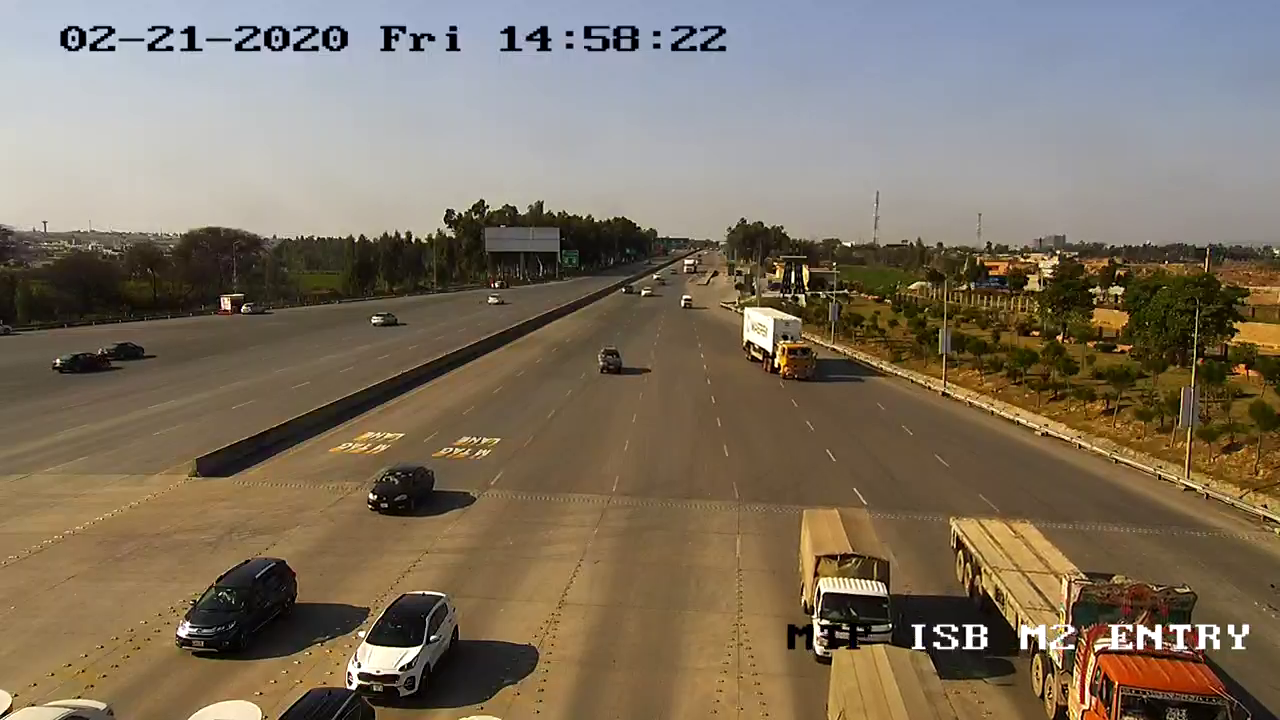f1: (155, 549, 314, 664), (334, 577, 474, 702), (354, 443, 445, 521), (589, 339, 627, 381)
f5: (780, 500, 906, 669), (726, 300, 837, 392)
